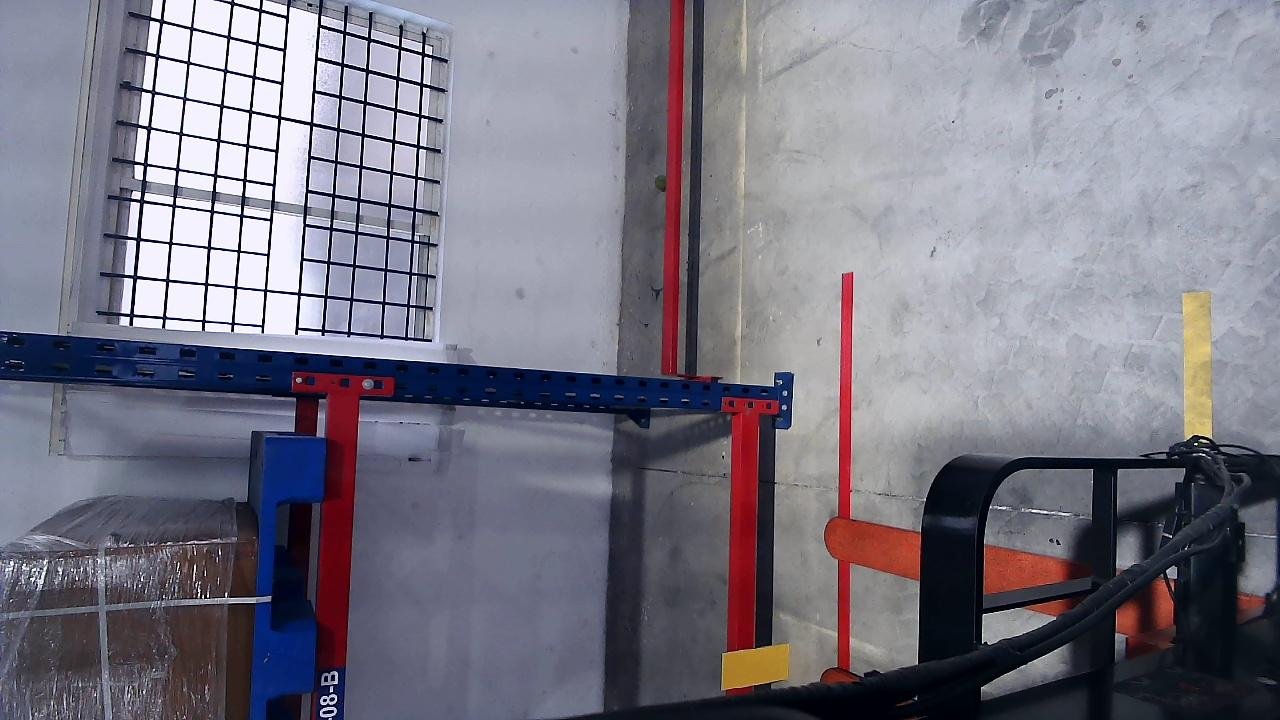h_rack: (729, 413, 760, 691), (328, 395, 345, 719)
orange_strip: (727, 650, 789, 689)
red_line: (837, 270, 853, 668)
small_pallet: (258, 439, 327, 718)
yellow_line: (1182, 293, 1214, 440)
